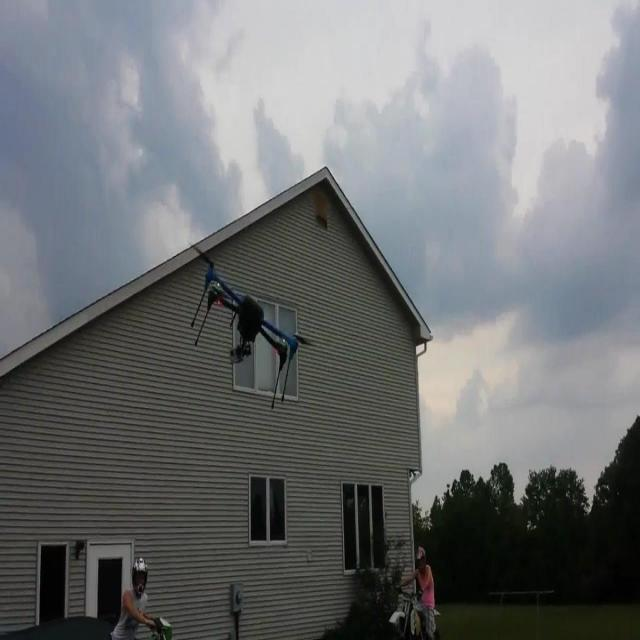UAV: (188, 242, 312, 409)
